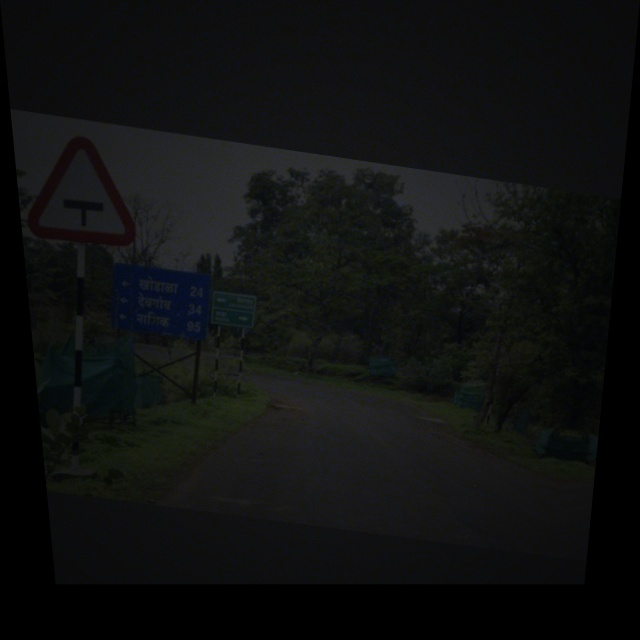T_Intersection: (19, 126, 151, 249)
